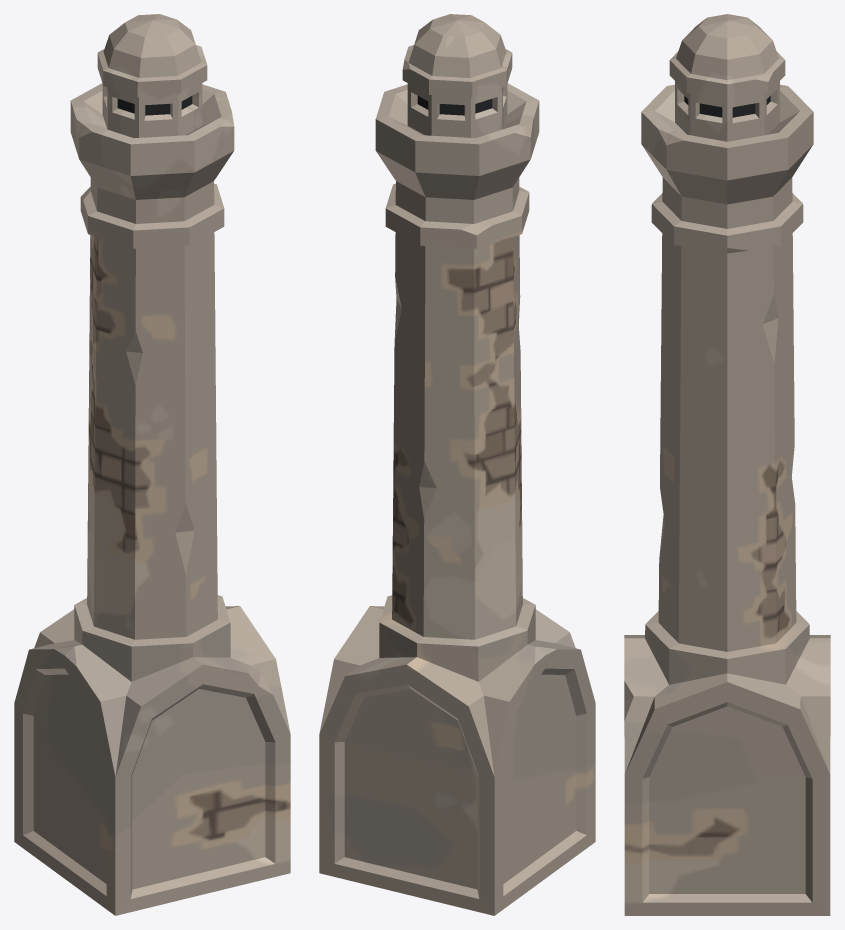
The model's file is SM_Bld_Village_Chimney_01.fbx.
3 renders of one model, left to right at view 1: azimuth 30°, elevation 25°; view 2: azimuth 150°, elevation 25°; view 3: azimuth 270°, elevation 25°, orthographic.
Parts seen in each view (by area): view 1: SM_Bld_Village_Chimney_01; view 2: SM_Bld_Village_Chimney_01; view 3: SM_Bld_Village_Chimney_01.
Part boxes in pixels (x1,y1,x2,y2): SM_Bld_Village_Chimney_01: (14,14,290,915); SM_Bld_Village_Chimney_01: (319,14,595,915); SM_Bld_Village_Chimney_01: (624,14,830,915).
Bounding box in the file's own units: 171 × 780 × 171.
